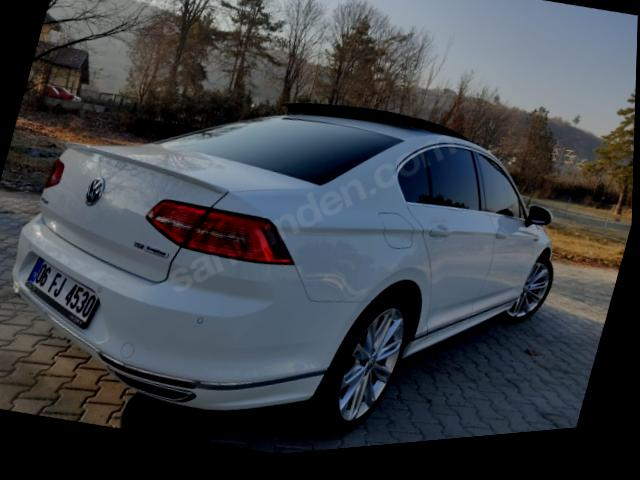plaka: (26, 258, 96, 328)
